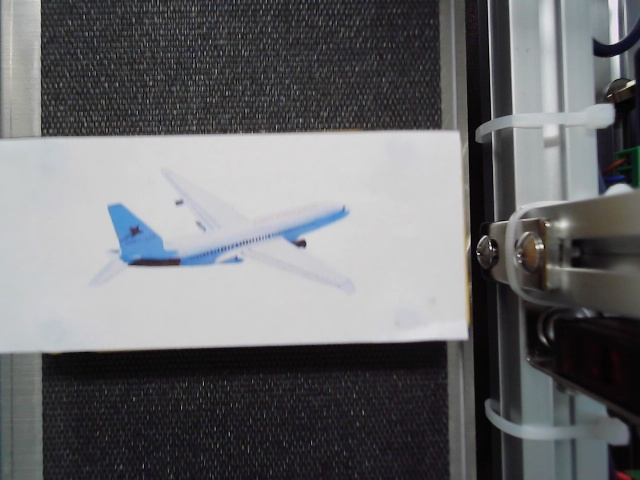airplane: (89, 167, 354, 294)
